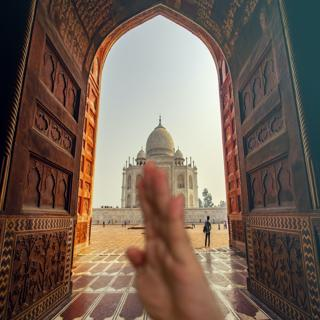RIGHT: (119, 159, 228, 320)
